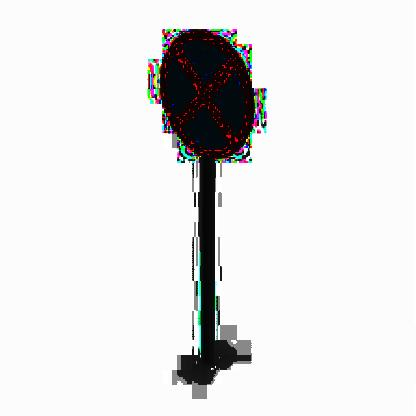No stopping: (147, 29, 272, 156)
